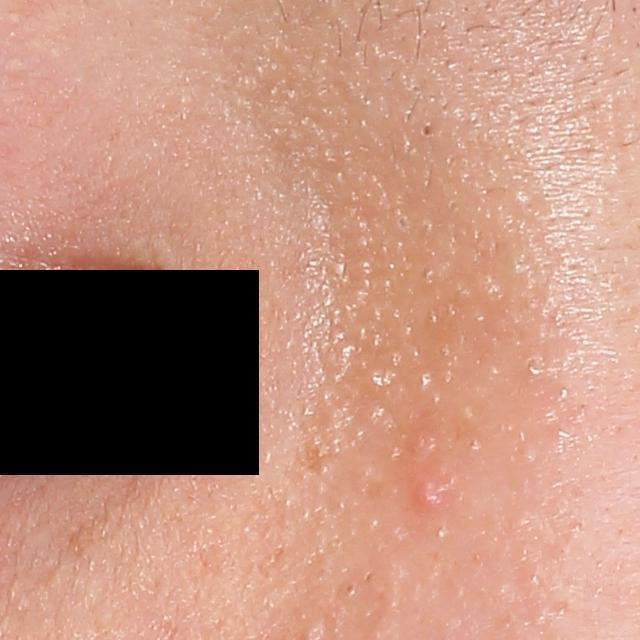comedo: (416, 119, 437, 143), (340, 577, 359, 600)
papule: (412, 480, 441, 514)
